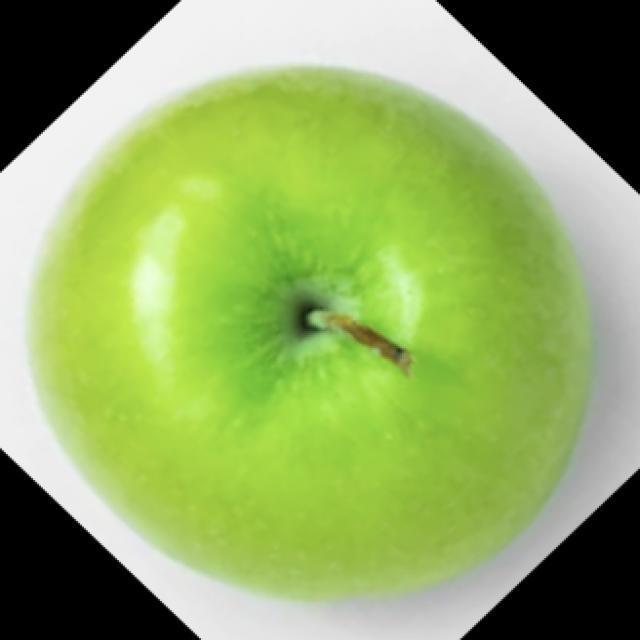Fresh Apple: (29, 62, 594, 600)
